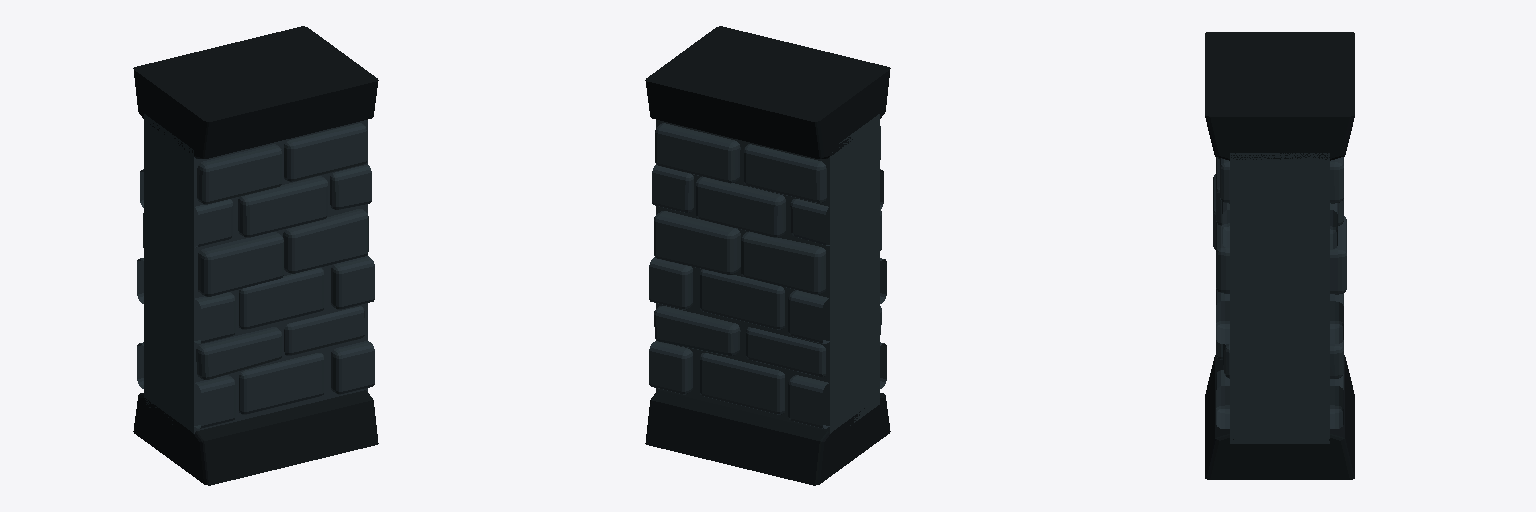
The model's file is wall_half.obj.
The picture shows the model from 3 angles: view 1: azimuth 30°, elevation 25°; view 2: azimuth 150°, elevation 25°; view 3: azimuth 270°, elevation 25°; orthographic projection.
Parts seen in each view (by area): view 1: wall:Mesh; view 2: wall:Mesh; view 3: wall:Mesh.
Boxes of the visible parts, box(x1,y1,x2,y2) form: wall:Mesh: box(133, 26, 378, 485); wall:Mesh: box(645, 26, 890, 485); wall:Mesh: box(1205, 32, 1354, 479).
Size of the model in its own units: 2 by 4 by 1.5.